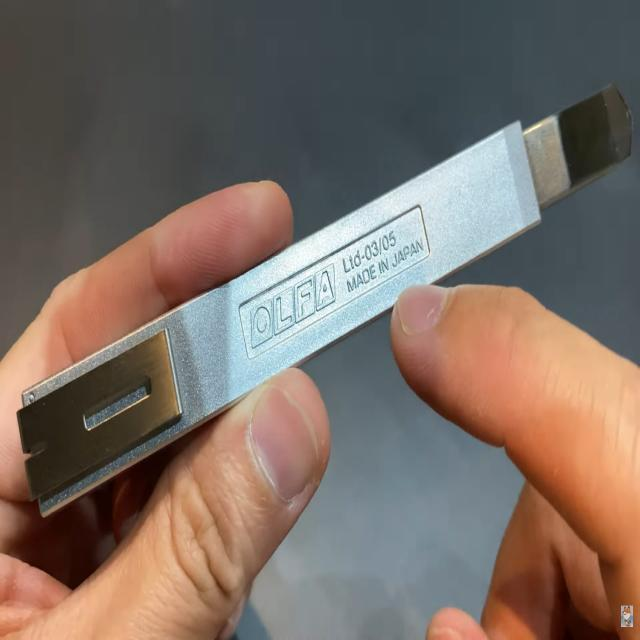cutter: (2, 39, 640, 548)
